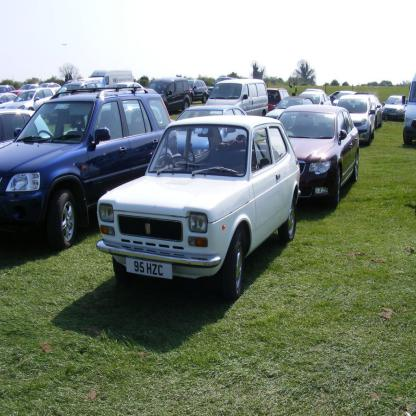Car: (0, 79, 408, 297)
